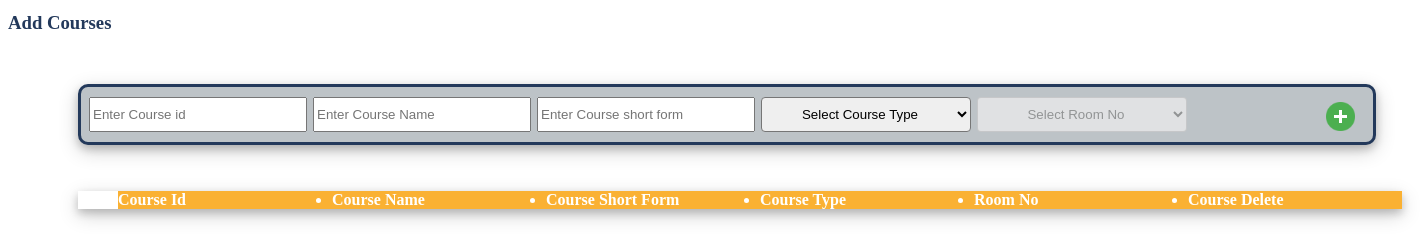
it: Testing Course Component › 6.Testing Course Type to enable/disable room no field
The width and height of the screenshot is (1425, 239).
Step 1. Select "Lab" in the dropdown with test id "courseType" → (866, 114), box [761,97,971,132]
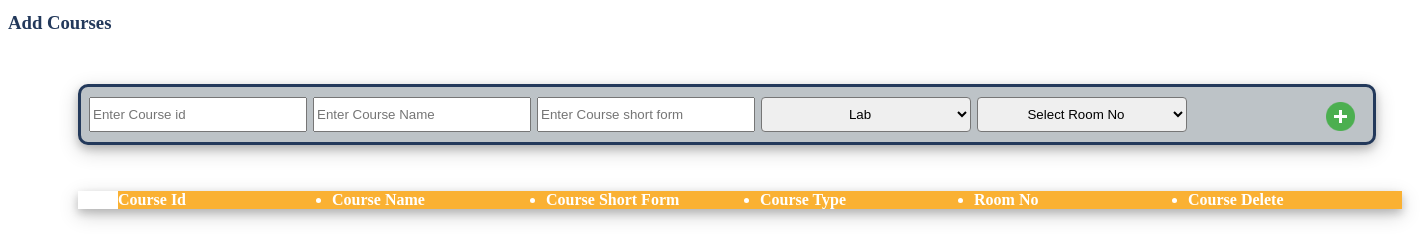
Expected: the dropdown with test id "room-no" is enabled, [977,97,1187,132]
Step 2. Select "Elective" in the dropdown with test id "courseType" → (866, 114), box [761,97,971,132]
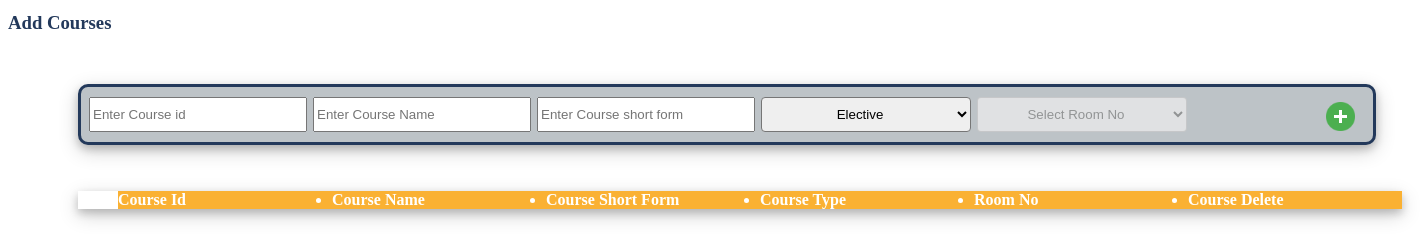
Expected: the dropdown with test id "room-no" is disabled, [977,97,1187,132]
